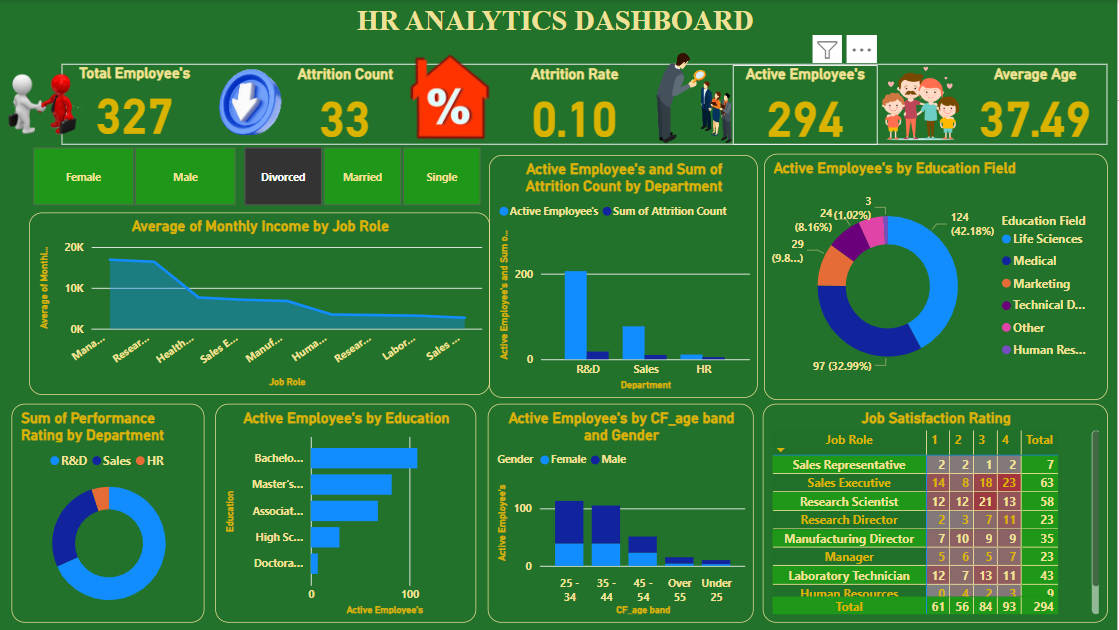

This screenshot's page, from the dashboard's own definition file:
{"tool":"powerbi","page":{"name":"Page 1","canvas":[1280,720],"ordinal":0},"visuals":[{"type":"card","title":"Total Employee''s","fields":{"Values":["Sum(HR data.Employee Count)"]},"box":[77,72.7,166.8,87.9],"z":0,"group":"g1"},{"type":"slicer","fields":{"Values":["HR data.Gender"]},"box":[18.5,161.1,280.8,79.8],"z":0},{"type":"card","title":"Attrition Count","fields":{"Values":["Sum(HR data.Attrition Count)"]},"box":[317.5,74.5,165.4,91.1],"z":1000,"group":"g1"},{"type":"slicer","fields":{"Values":["HR data.Marital Status"]},"box":[259.4,161.1,319.3,79.8],"z":1000},{"type":"group","id":"g1","title":"Group 1","box":[77,72.7,1193.1,92.7],"z":2000},{"type":"card","title":"Attrition Rate","fields":{"Values":["HR data.Attrition Rate"]},"box":[579.2,74.5,166.9,91.1],"z":2000,"group":"g1"},{"type":"card","title":"Active Employee''s","fields":{"Values":["HR data.Active Employee's"]},"box":[842.3,74.5,165.4,91.1],"z":3000,"group":"g1"},{"type":"group","id":"g2","title":"Group 2","box":[20,460.4,1250.1,249.4],"z":3000},{"type":"card","title":"Average Age","fields":{"Values":["Avg(HR data.Age)"]},"box":[1104,74.5,165.4,91.1],"z":4000,"group":"g1"},{"type":"group","id":"g3","title":"Group 3","box":[40,175.3,1230.1,280.8],"z":4000},{"type":"image","box":[1007.8,67,98.4,101.2],"z":5000},{"type":"clusteredColumnChart","fields":{"Category":["HR data.Department"],"Y":["HR data.Active Employee's","Sum(HR data.Attrition Count)"]},"box":[564.5,177.4,306.5,276.5],"z":5000,"group":"g3"},{"type":"image","box":[719.8,48.5,158.2,126.9],"z":6000},{"type":"donutChart","fields":{"Y":["HR data.Active Employee's"],"Category":["HR data.Education Field"]},"box":[878.1,175.3,392,280.8],"z":6000,"group":"g3"},{"type":"image","box":[463.3,52.7,115.5,112.6],"z":7000},{"type":"columnChart","fields":{"Y":["HR data.Active Employee's"],"Category":["HR data.CF_age band"],"Series":["HR data.Gender"]},"box":[563.1,460.4,303.2,249.4],"z":7000,"group":"g2"},{"type":"image","box":[233.8,41.3,116.9,149.7],"z":8000},{"type":"pivotTable","title":"Job Satisfaction Rating","fields":{"Rows":["HR data.Job Role"],"Columns":["HR data.Job Satisfaction"],"Values":["HR data.Active Employee's"]},"box":[876.4,460.4,393.7,249.4],"z":8000,"group":"g2"},{"type":"image","box":[0,34.2,109.8,176.7],"z":9000},{"type":"donutChart","fields":{"Y":["Sum(HR data.Performance Rating)"],"Category":["HR data.Department"]},"box":[20,460.4,219.8,249.4],"z":9000,"group":"g2"},{"type":"textbox","box":[0,0,1280,57],"z":9001},{"type":"clusteredBarChart","fields":{"Category":["HR data.Education"],"Y":["HR data.Active Employee's"]},"box":[252.8,460.4,297.4,249.4],"z":10000,"group":"g2"},{"type":"areaChart","fields":{"Category":["HR data.Job Role"],"Y":["Avg(HR data.Monthly Income)"]},"box":[40,241.8,526,208.1],"z":11000,"group":"g3"}]}

Visuals, with their boxes in screenshot pixels (x1, y1, x2, y2), scaled from the page's 1280x720 canvas onto the 1119x630 screenshot:
"Total Employee''s" card: (67, 64, 213, 141)
slicer - HR data.Gender: (16, 141, 262, 211)
"Attrition Count" card: (278, 65, 422, 145)
slicer - HR data.Marital Status: (227, 141, 506, 211)
"Group 1" group: (67, 64, 1110, 145)
"Attrition Rate" card: (506, 65, 652, 145)
"Active Employee''s" card: (736, 65, 881, 145)
"Group 2" group: (17, 403, 1110, 621)
"Average Age" card: (965, 65, 1110, 145)
"Group 3" group: (35, 153, 1110, 399)
image: (881, 59, 967, 147)
clusteredColumnChart - HR data.Department x HR data.Active Employee's: (493, 155, 761, 397)
image: (629, 42, 768, 153)
donutChart - HR data.Active Employee's x HR data.Education Field: (768, 153, 1110, 399)
image: (405, 46, 506, 145)
columnChart - HR data.Active Employee's x HR data.CF_age band: (492, 403, 757, 621)
image: (204, 36, 307, 167)
"Job Satisfaction Rating" pivotTable: (766, 403, 1110, 621)
image: (0, 30, 96, 185)
donutChart - Sum(HR data.Performance Rating) x HR data.Department: (17, 403, 210, 621)
textbox: (0, 0, 1118, 50)
clusteredBarChart - HR data.Education x HR data.Active Employee's: (221, 403, 481, 621)
areaChart - HR data.Job Role x Avg(HR data.Monthly Income): (35, 212, 495, 394)
